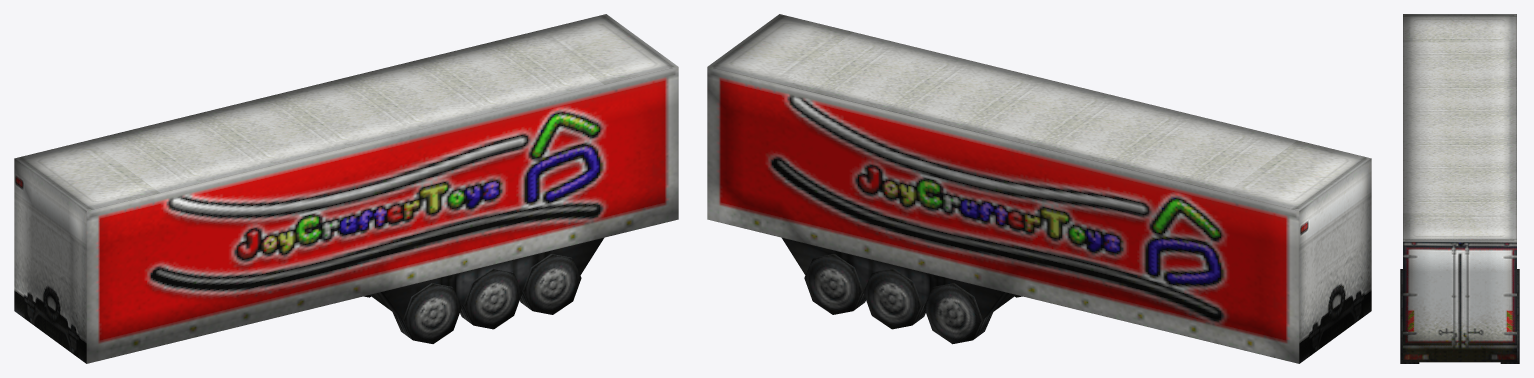
The model's file is lorrytrailer4.fbx.
The picture shows the model from 3 angles, left to right: view 1: azimuth 30°, elevation 25°; view 2: azimuth 150°, elevation 25°; view 3: azimuth 270°, elevation 25°; orthographic projection. The views are drawn at different scales.
Visible parts, largest first — view 1: lorrytrailer4; view 2: lorrytrailer4; view 3: lorrytrailer4.
Boxes of the visible parts, <box> form: lorrytrailer4: <box>14,14,678,363</box>; lorrytrailer4: <box>707,14,1371,363</box>; lorrytrailer4: <box>1400,14,1519,363</box>.
Size of the model in its own units: 1148 by 254 by 400.
1 material, 1 textured.
